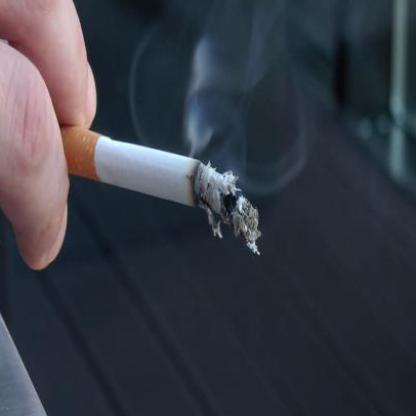cigarette: (60, 129, 262, 249)
smoke: (182, 36, 246, 158)
